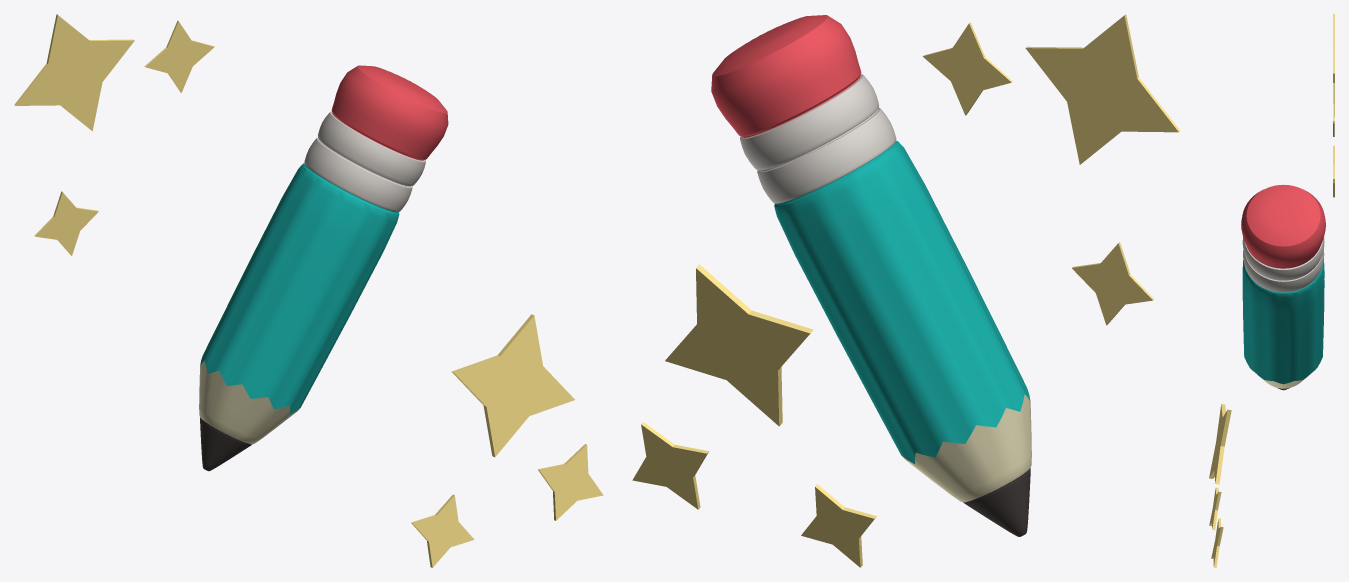
The model's file is pencil.glb.
3 renders of one model, left to right at view 1: azimuth 30°, elevation 25°; view 2: azimuth 150°, elevation 25°; view 3: azimuth 270°, elevation 25°, orthographic. The views are drawn at different scales.
Parts seen in each view (by area): view 1: Cylinder, Star.003, Star, Star.004, Star.001, Star.005, Star.002; view 2: Cylinder, Star.003, Star, Star.004, Star.001, Star.005, Star.002; view 3: Cylinder, Star.003, Star.004, Star.005.
Part boxes in pixels (x1,y1,x2,y2): Cylinder: [199, 65, 448, 471]; Star.003: [451, 314, 574, 456]; Star: [14, 14, 134, 130]; Star.004: [537, 444, 603, 520]; Star.001: [144, 20, 214, 92]; Star.005: [411, 494, 474, 567]; Star.002: [34, 191, 98, 255]; Cylinder: [711, 15, 1031, 536]; Star.003: [665, 264, 813, 426]; Star: [1025, 14, 1180, 164]; Star.004: [632, 422, 708, 509]; Star.001: [923, 22, 1012, 115]; Star.005: [801, 484, 876, 567]; Star.002: [1072, 242, 1154, 325]; Cylinder: [1241, 184, 1325, 390]; Star.003: [1209, 404, 1231, 484]; Star.004: [1211, 518, 1223, 567]; Star.005: [1209, 487, 1221, 530].
Size of the model in its own units: 0.6536 by 0.6933 by 0.1933.
